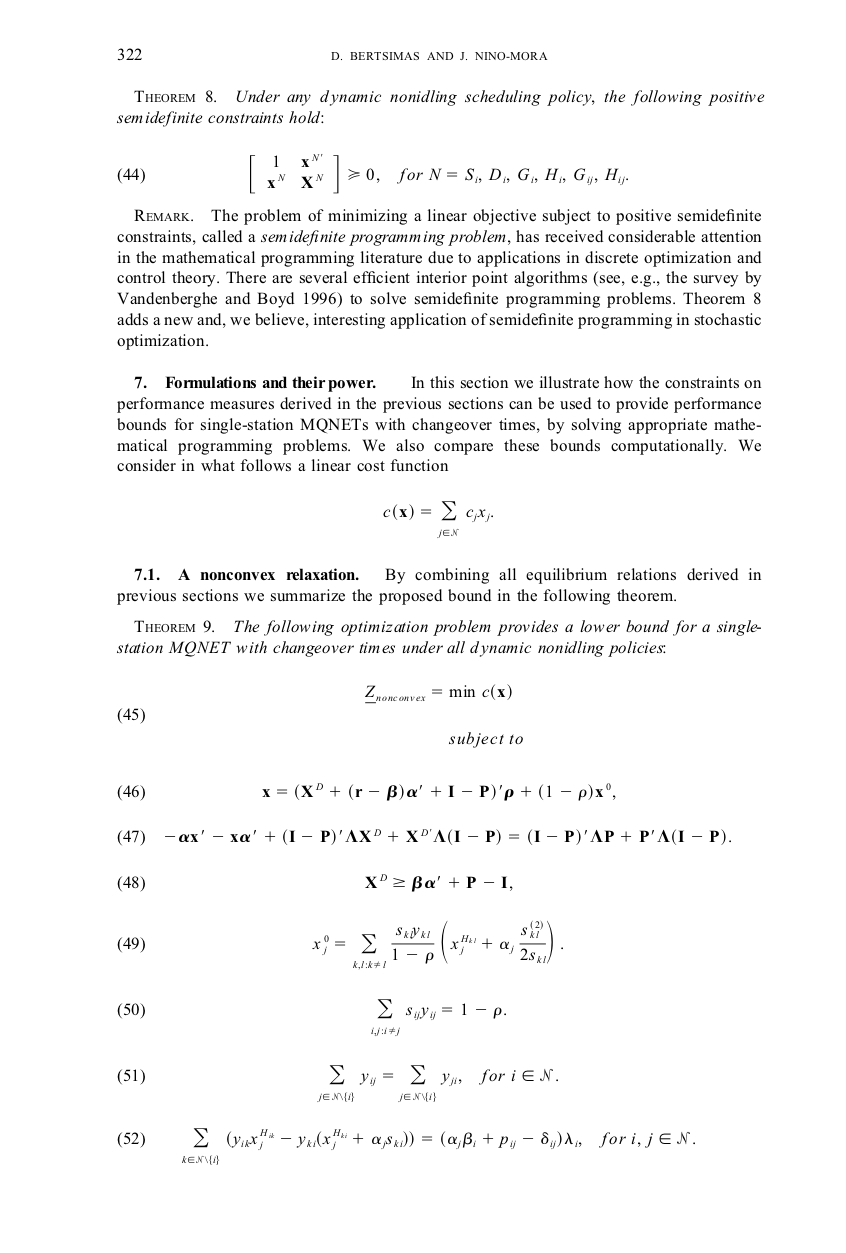formula: (117, 919, 562, 970), (117, 153, 627, 194), (117, 1128, 694, 1164), (117, 1065, 557, 1101), (117, 999, 505, 1035), (117, 828, 730, 846), (117, 782, 615, 801), (117, 873, 512, 892), (383, 501, 492, 537), (365, 683, 511, 704)
